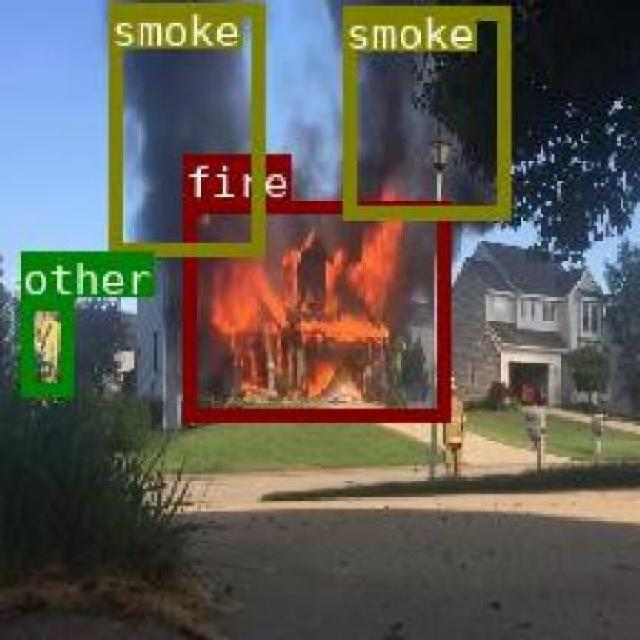Fire: (181, 198, 447, 419)
Smoke: (107, 1, 261, 252), (340, 3, 508, 217)
